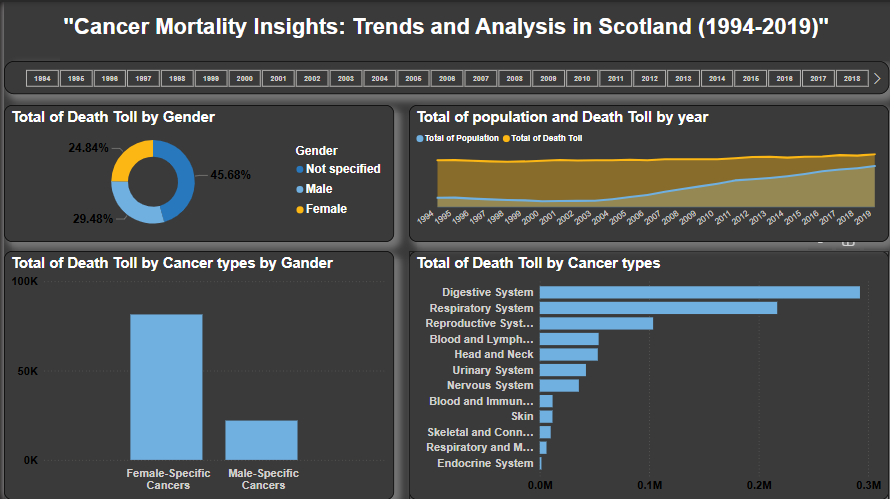

Layout of this report page (visuals, bound fields, positions):
{"tool":"powerbi","page":{"name":"Dashboard","canvas":[1280,720],"ordinal":0},"visuals":[{"type":"slicer","fields":{"Values":["fcancer mortality.Year"]},"box":[585.5,104.1,663.6,78.1],"z":0},{"type":"donutChart","title":"Total of Death Toll by Gender","fields":{"Category":["fcancer mortality.Gender"],"Y":["Sum(fcancer mortality.Death Toll)"]},"box":[0,206.7,563.9,189.4],"z":1000},{"type":"clusteredBarChart","title":"Total of Death Toll by Cancer types ","fields":{"Y":["Sum(fcancer mortality.Death Toll)"],"Category":["fcancer mortality.Cancer types (groups)"]},"box":[585.5,406.3,694,313.7],"z":2000},{"type":"clusteredColumnChart","title":"Total of Death Toll by Cancer types  by Gander","fields":{"Category":["fcancer mortality In scotlanda.Types of Cancer by Gender"],"Y":["Sum(fcancer mortality In scotlanda.Death Toll)"]},"box":[0,406.3,563.9,313.7],"z":3000},{"type":"areaChart","title":"Total of  population and Death Toll by year","fields":{"Category":["dScotland Population.Year"],"Y2":["Sum(fcancer mortality.Death Toll)"],"Y":["Sum(dScotland Population.Population)"]},"box":[585.5,206.7,694,189.4],"z":4000},{"type":"textbox","box":[179.3,0,955.7,60.7],"z":5000},{"type":"cardVisual","title":"Total of Death Toll by Gender","fields":{"Data":["_Measures.Avg Mortality"]},"box":[293.5,60.7,270.4,135.9],"z":6000},{"type":"cardVisual","title":"Total of Death Toll by Gender","fields":{"Data":["_Measures.Mortality Rate"]},"box":[0,60.7,281.9,135.9],"z":7000}]}

Visuals, with their boxes in screenshot pixels (x1, y1, x2, y2), scaled from the page's 1280x720 canvas onto the 890x499 screenshot:
slicer - fcancer mortality.Year: {"x1": 407, "y1": 72, "x2": 869, "y2": 126}
"Total of Death Toll by Gender" donutChart: {"x1": 0, "y1": 143, "x2": 392, "y2": 275}
"Total of Death Toll by Cancer types " clusteredBarChart: {"x1": 407, "y1": 282, "x2": 889, "y2": 498}
"Total of Death Toll by Cancer types  by Gander" clusteredColumnChart: {"x1": 0, "y1": 282, "x2": 392, "y2": 498}
"Total of  population and Death Toll by year" areaChart: {"x1": 407, "y1": 143, "x2": 889, "y2": 275}
textbox: {"x1": 125, "y1": 0, "x2": 789, "y2": 42}
"Total of Death Toll by Gender" cardVisual: {"x1": 204, "y1": 42, "x2": 392, "y2": 136}
"Total of Death Toll by Gender" cardVisual: {"x1": 0, "y1": 42, "x2": 196, "y2": 136}
